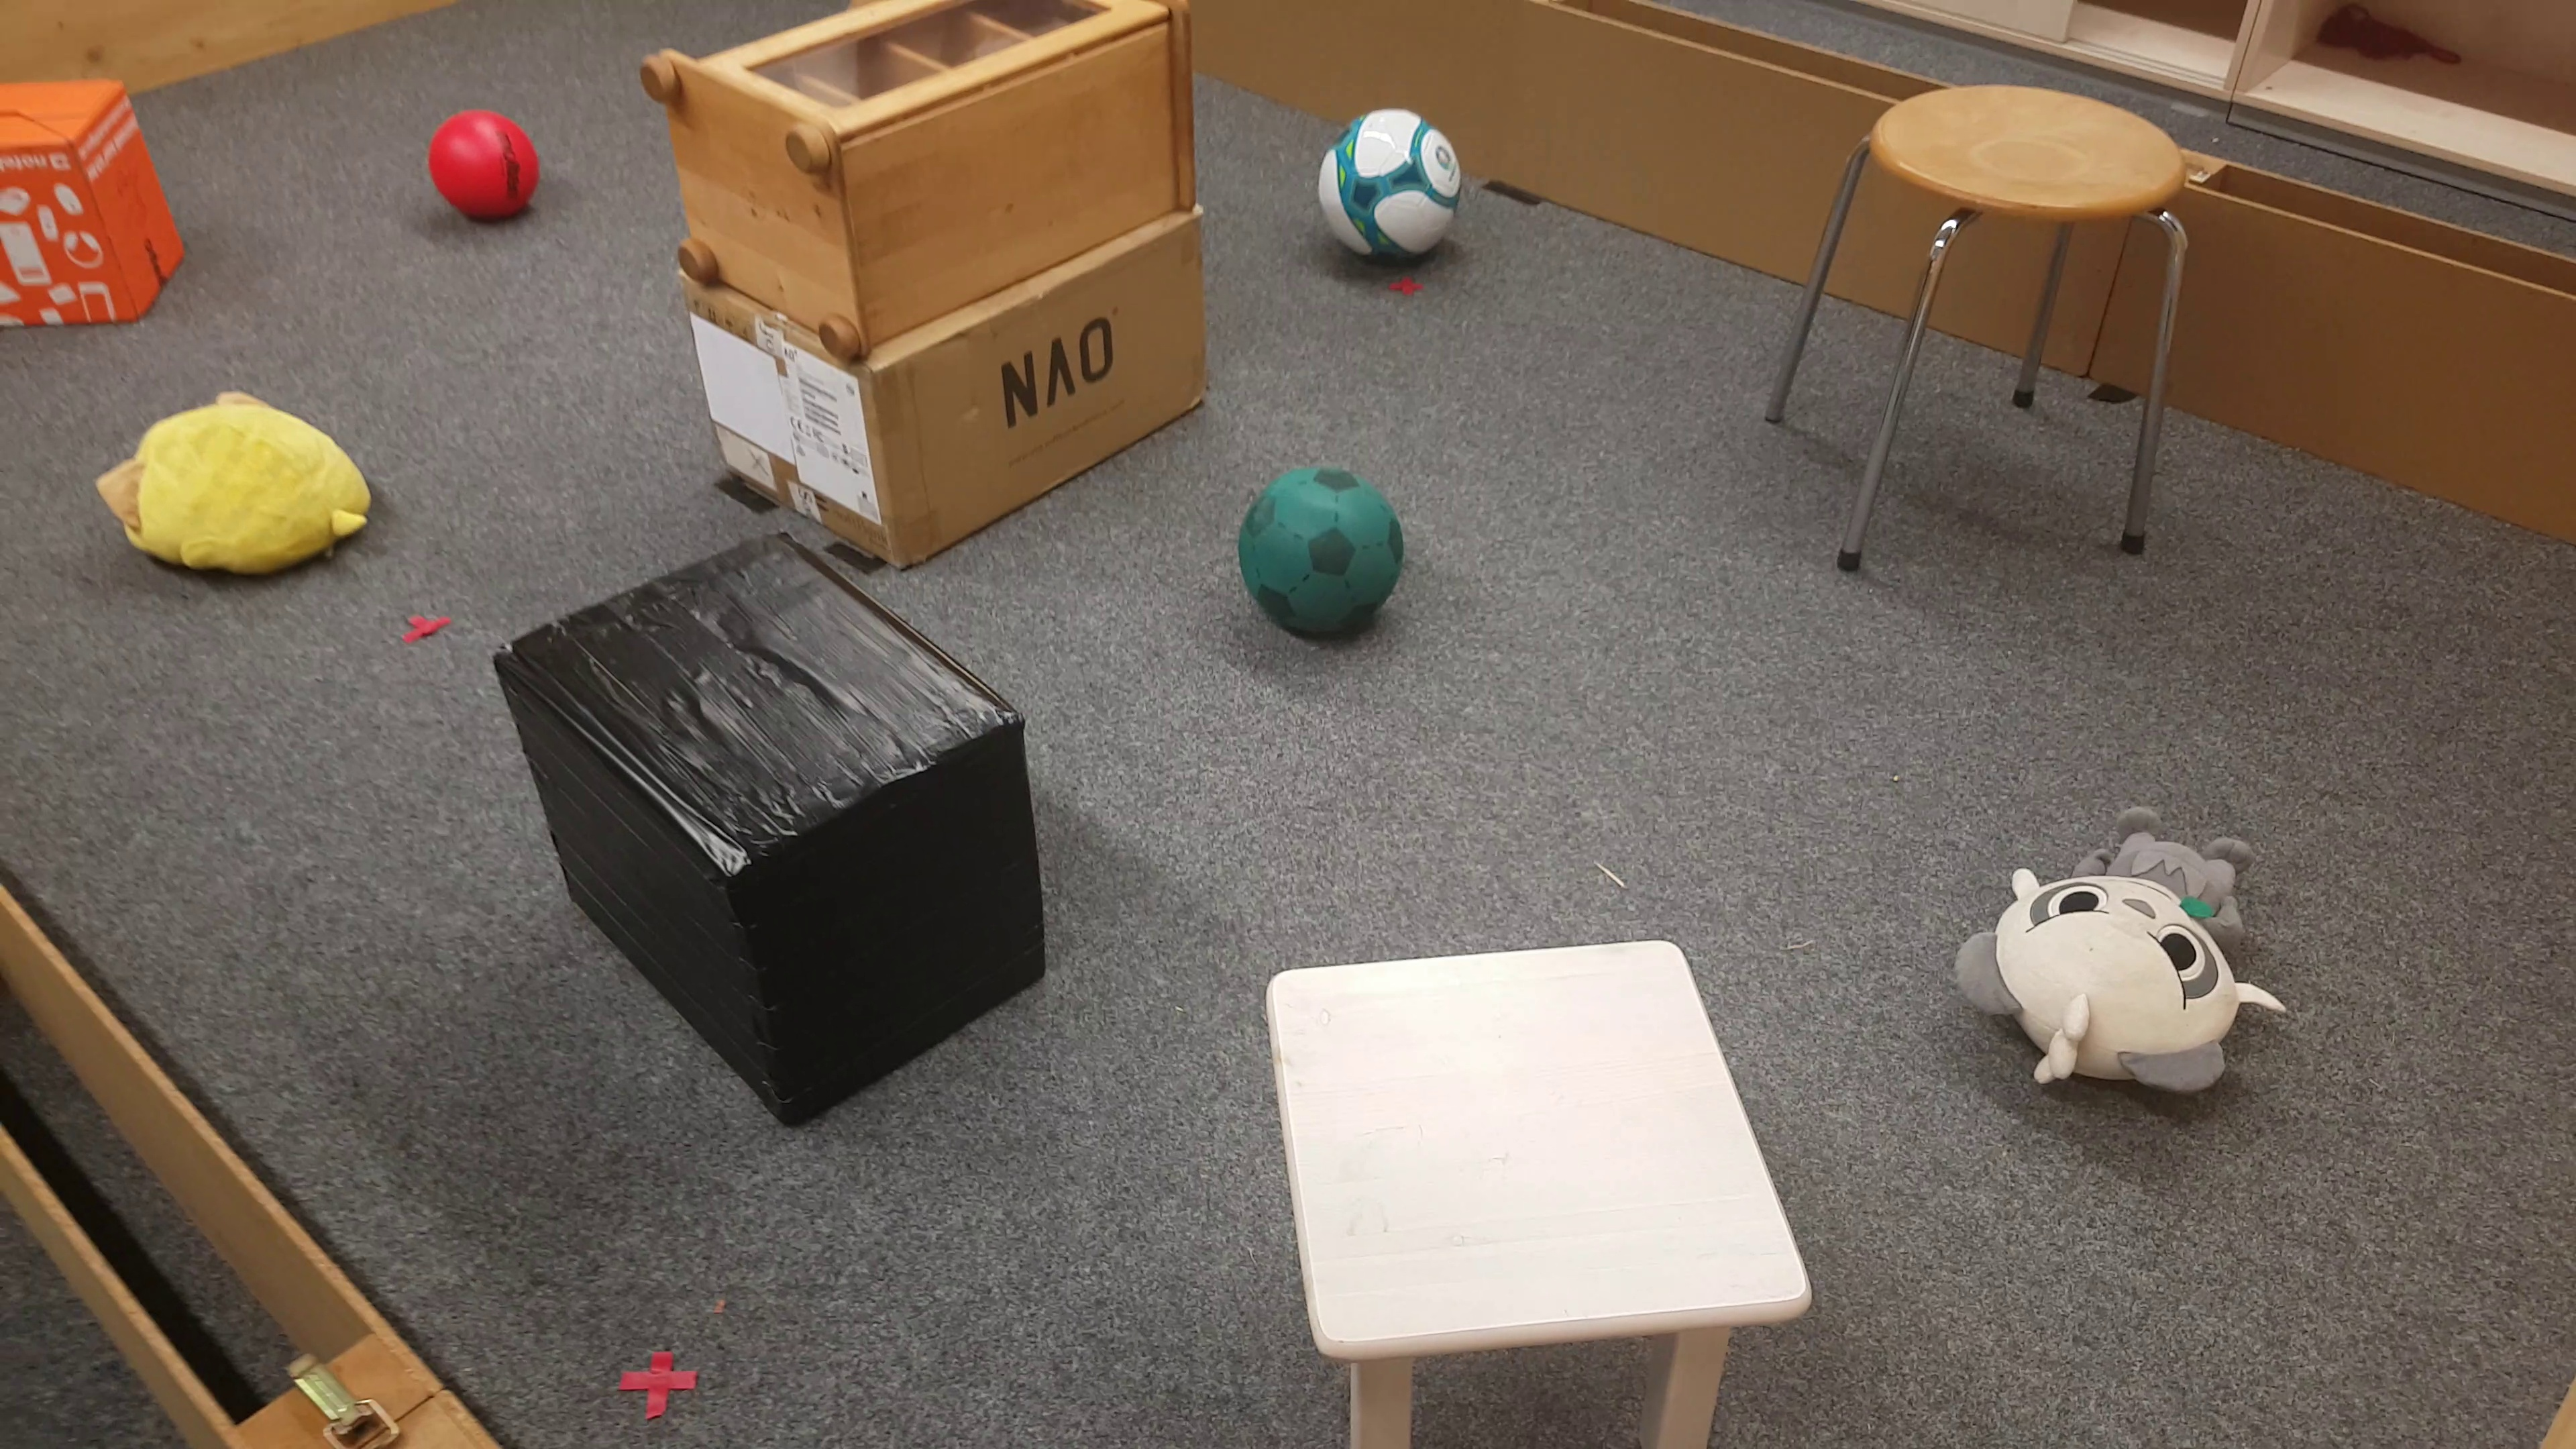grasp: (1960, 805, 2291, 1115), (97, 389, 370, 580)
kick: (1242, 464, 1408, 640), (1323, 106, 1463, 280), (430, 111, 545, 219)
push: (499, 550, 1058, 1123), (0, 85, 200, 333)
